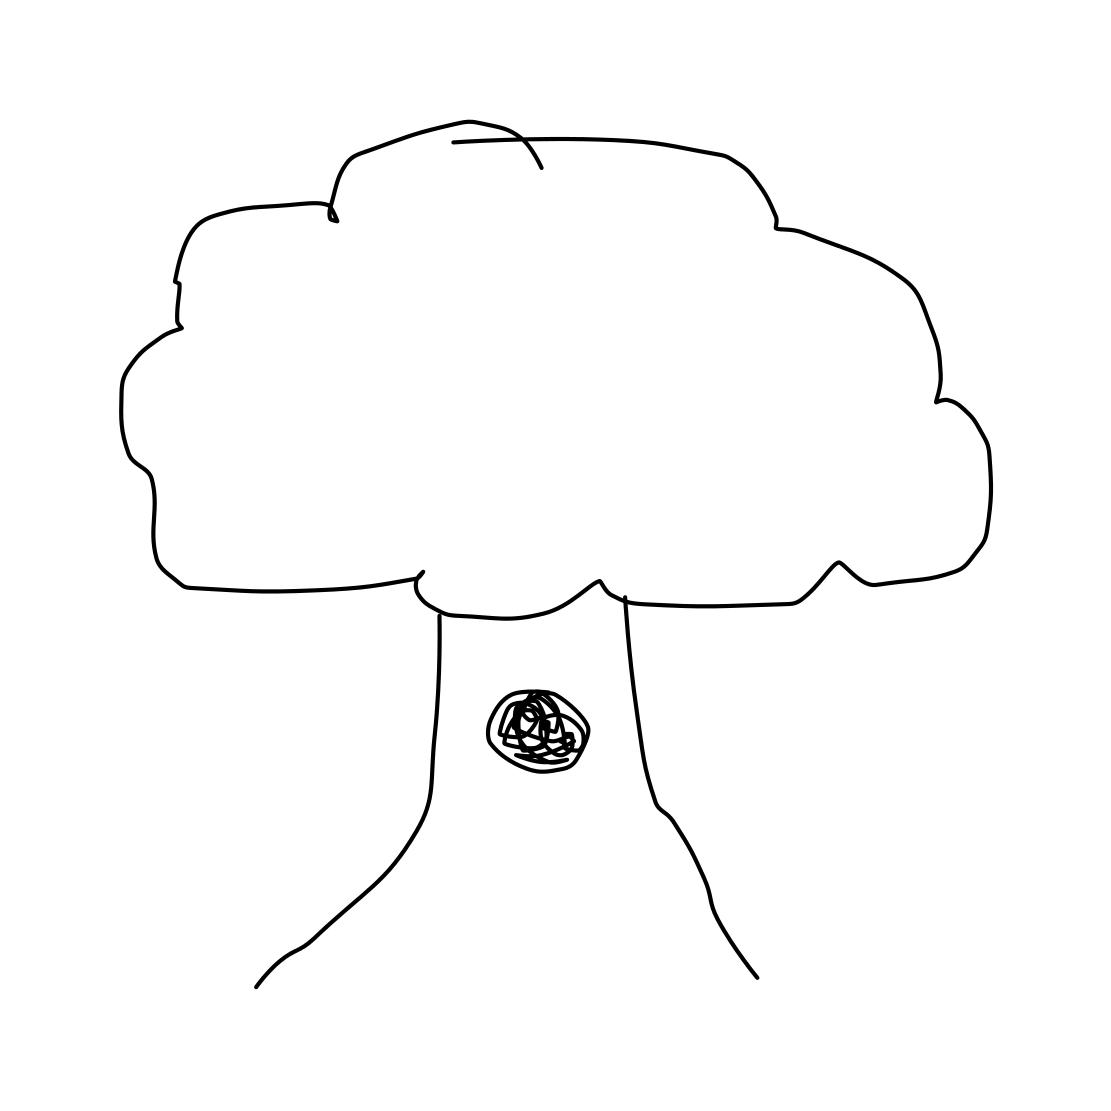Tree: (58, 89, 1024, 998)
